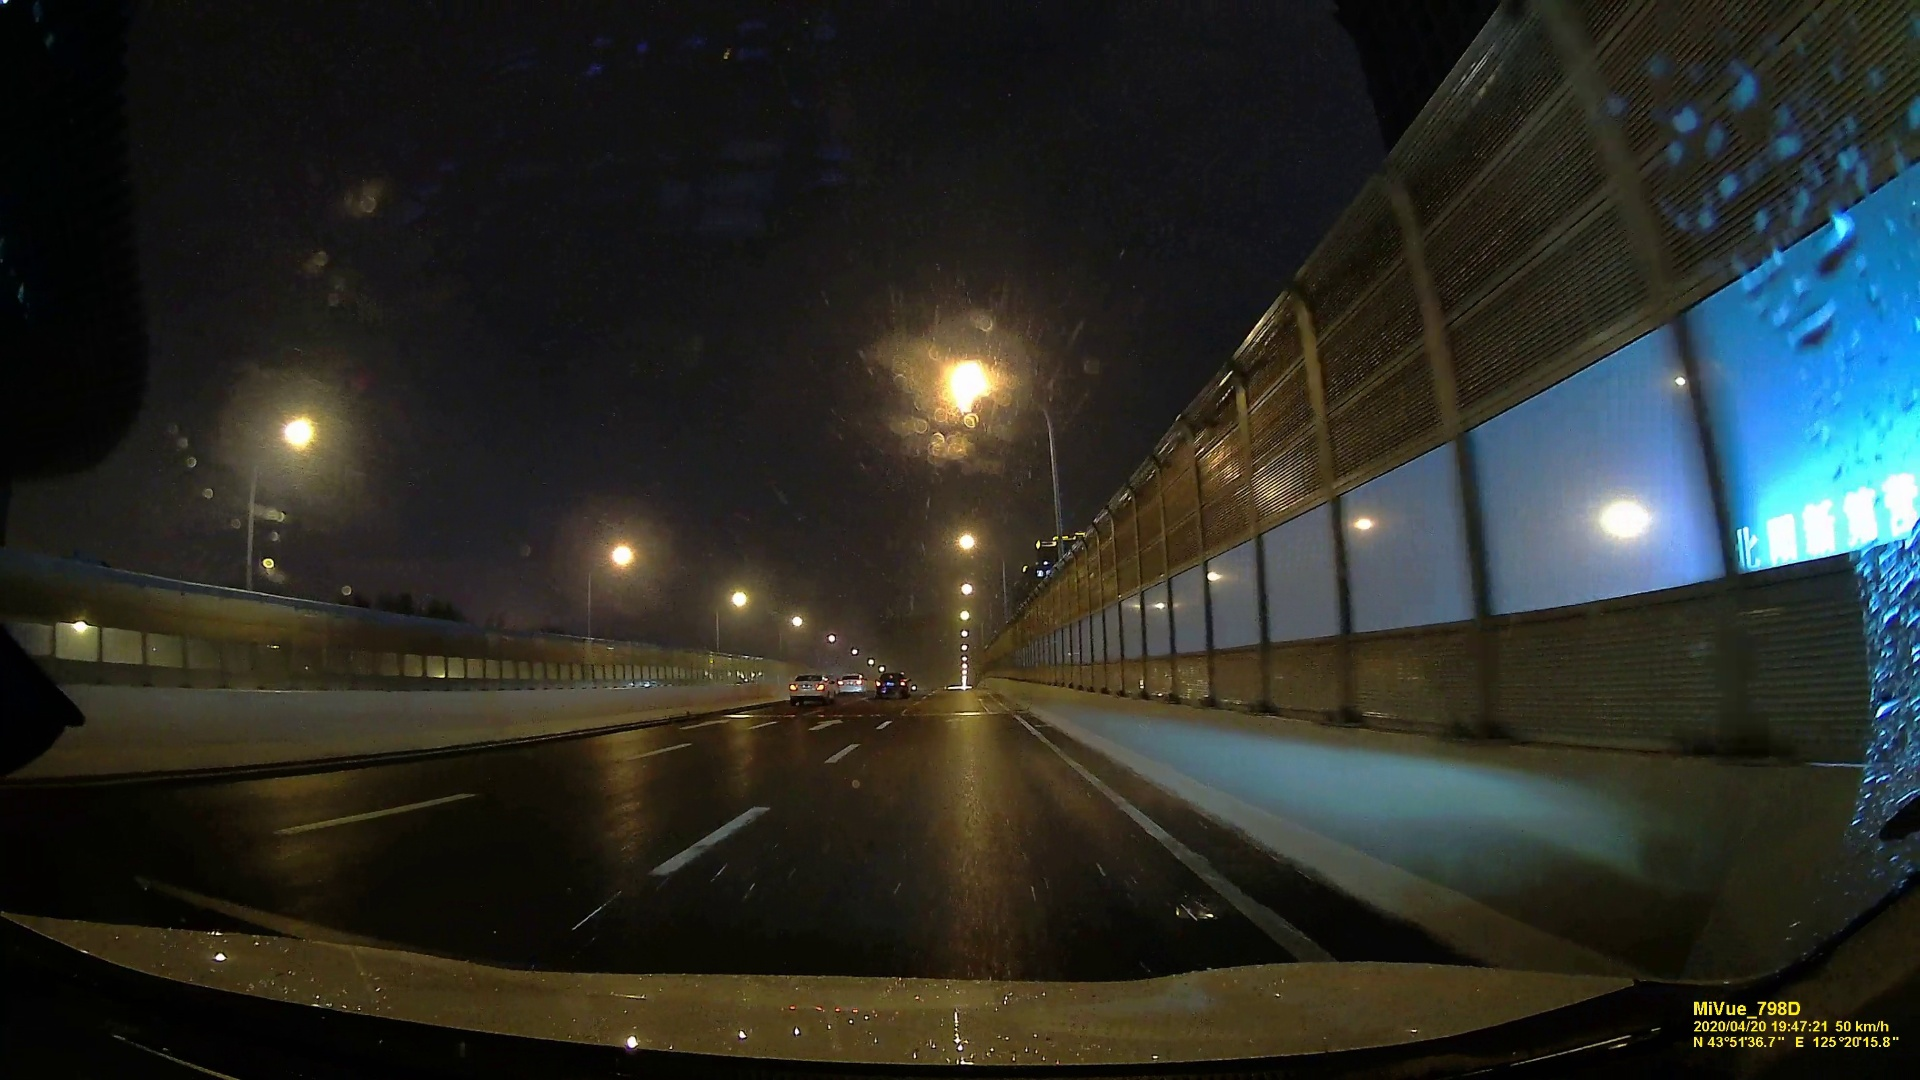vehicle: (789, 673, 833, 704), (874, 671, 909, 698), (837, 673, 865, 696)
